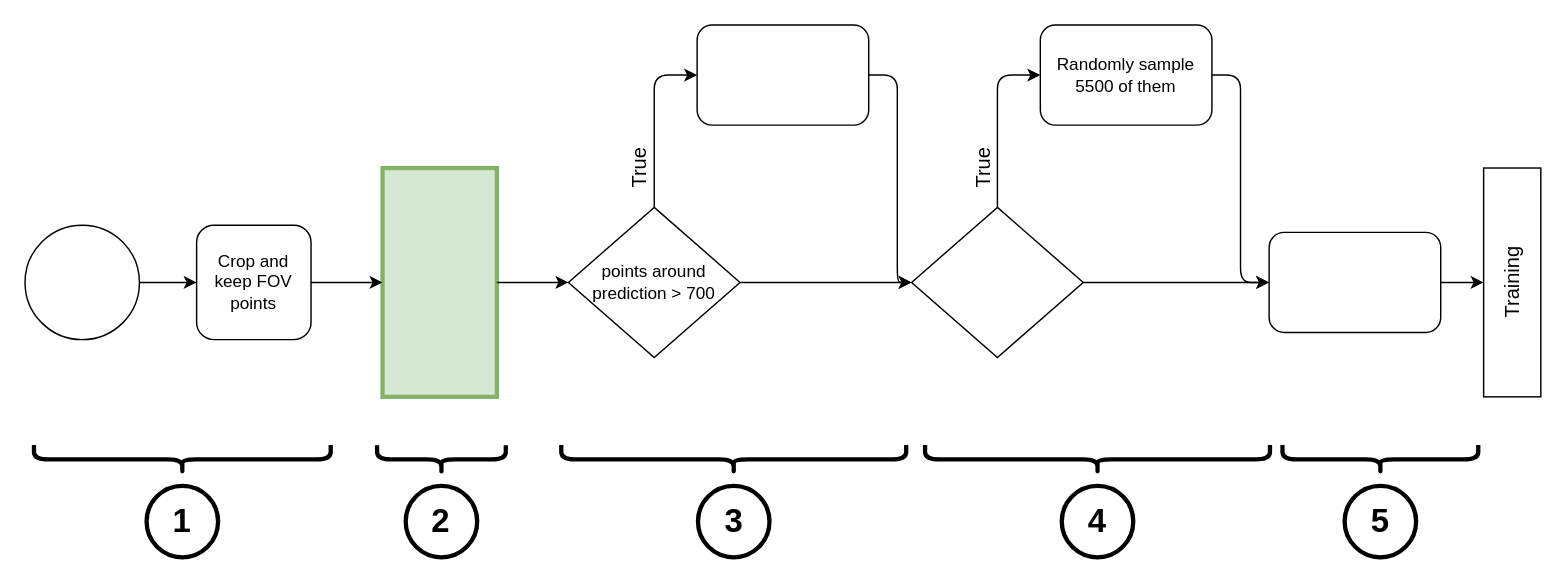
The diagram is 1566 pixels wide and 585 high, and some of its shapes have lost their labels. The centre of each missing label's shape, as x and y in pixels:
"Get predictions from Pointpillars" goes at pixel 439 281.
"Randomly sample 700 of them" goes at pixel 782 74.
"Randomly sample points from the remaining enviroment to reach 8000 points" goes at pixel 1354 281.
"Raw PCL" goes at pixel 81 282.
"total points from predictions > 5500" goes at pixel 996 282.
